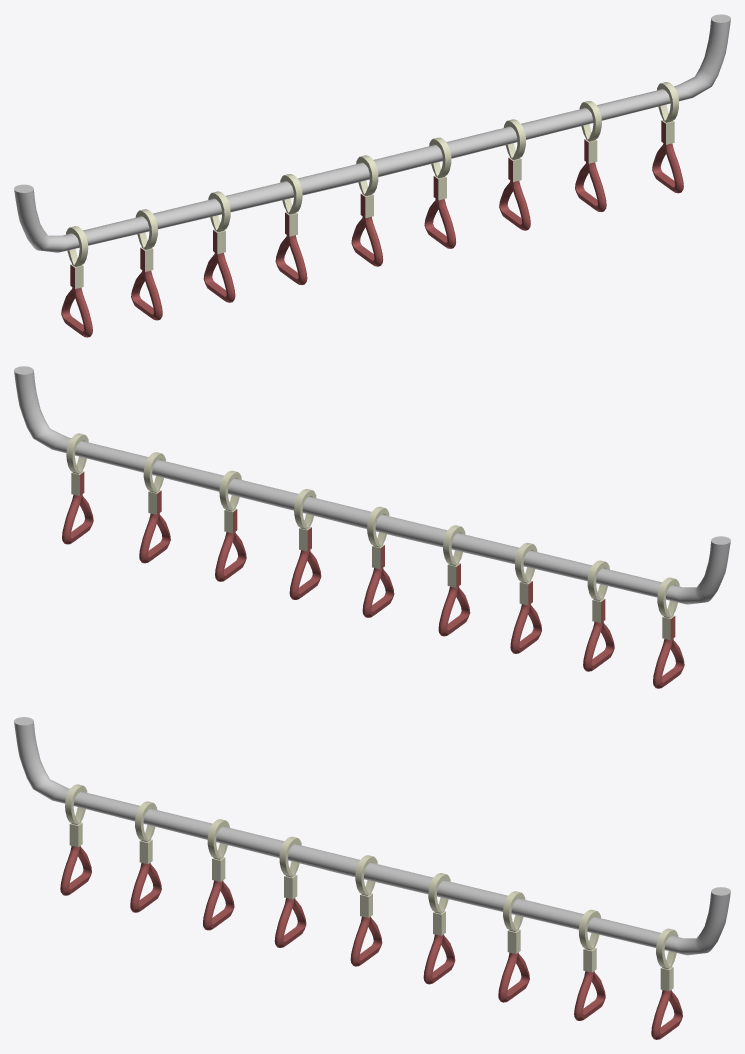
Rendered from mrt train handle.fbx.
3 views of the same model, one above another, from view 1: azimuth 30°, elevation 25°; view 2: azimuth 150°, elevation 25°; view 3: azimuth 330°, elevation 25° (orthographic).
Visible parts, largest first — view 1: mrt_station:mrt_station:polySurface562; view 2: mrt_station:mrt_station:polySurface562; view 3: mrt_station:mrt_station:polySurface562.
Part boxes in pixels (box(x1,y1,x2,y2)): mrt_station:mrt_station:polySurface562: box(14, 14, 730, 337); mrt_station:mrt_station:polySurface562: box(14, 366, 730, 688); mrt_station:mrt_station:polySurface562: box(14, 717, 730, 1039).
Size of the model in its own units: 516 by 107 by 35.32.
1 material, 1 textured.
